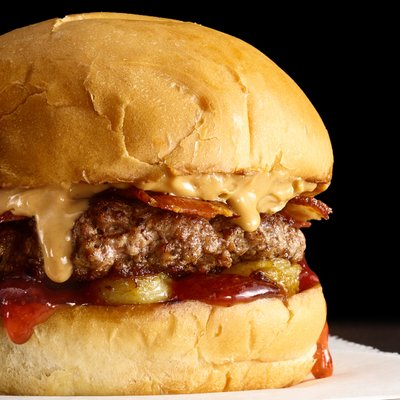soup: (0, 7, 340, 392)
